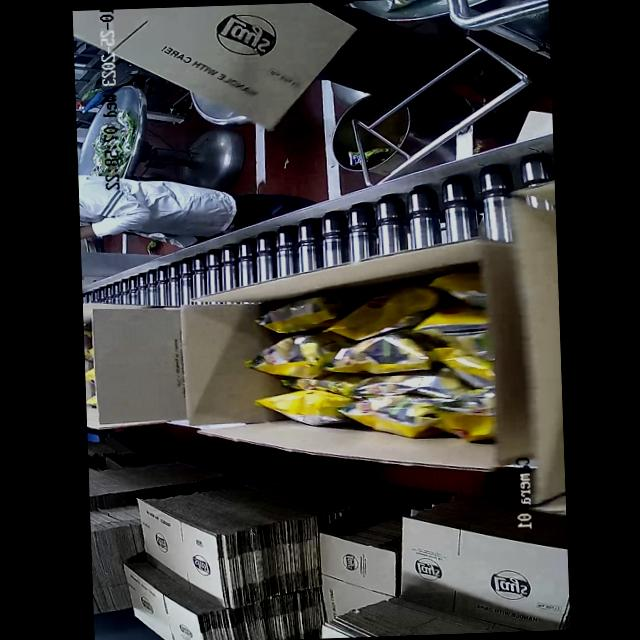salted: (238, 270, 496, 449)
